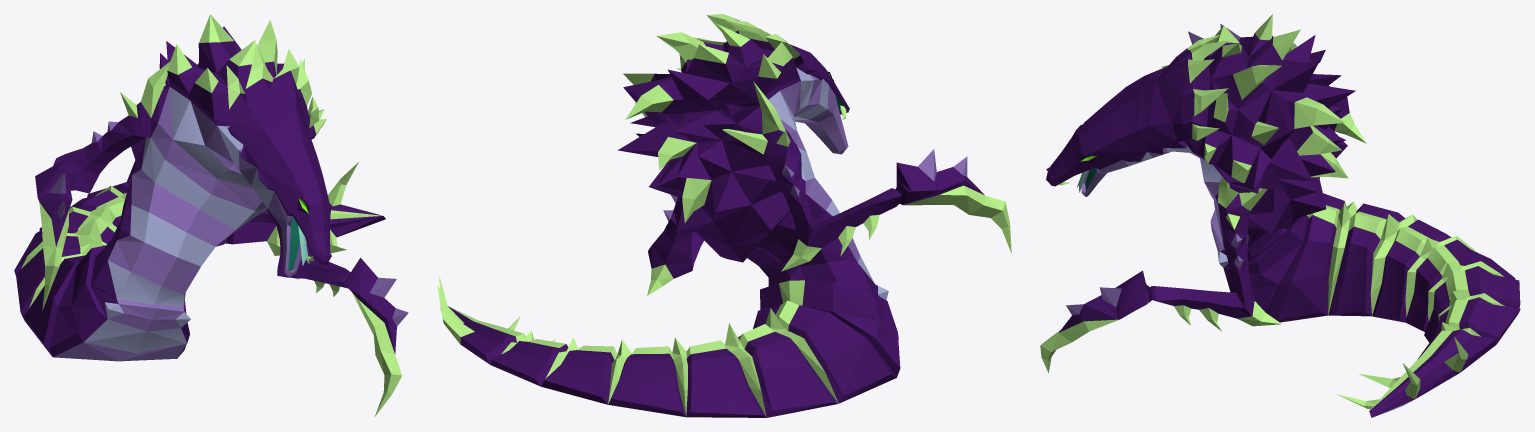
3 renders of one model, left to right at view 1: azimuth 30°, elevation 25°; view 2: azimuth 150°, elevation 25°; view 3: azimuth 270°, elevation 25°, orthographic. The views are drawn at different scales.
Visible parts, largest first — view 1: Alien_Serpent; view 2: Alien_Serpent; view 3: Alien_Serpent.
Boxes of the visible parts, x1,y1,x2,y2 form: Alien_Serpent: (14,14,408,416); Alien_Serpent: (437,14,1011,417); Alien_Serpent: (1040,14,1520,417).
Bounding box in the file's own units: 295 × 204 × 274.
1 material, 1 textured.
